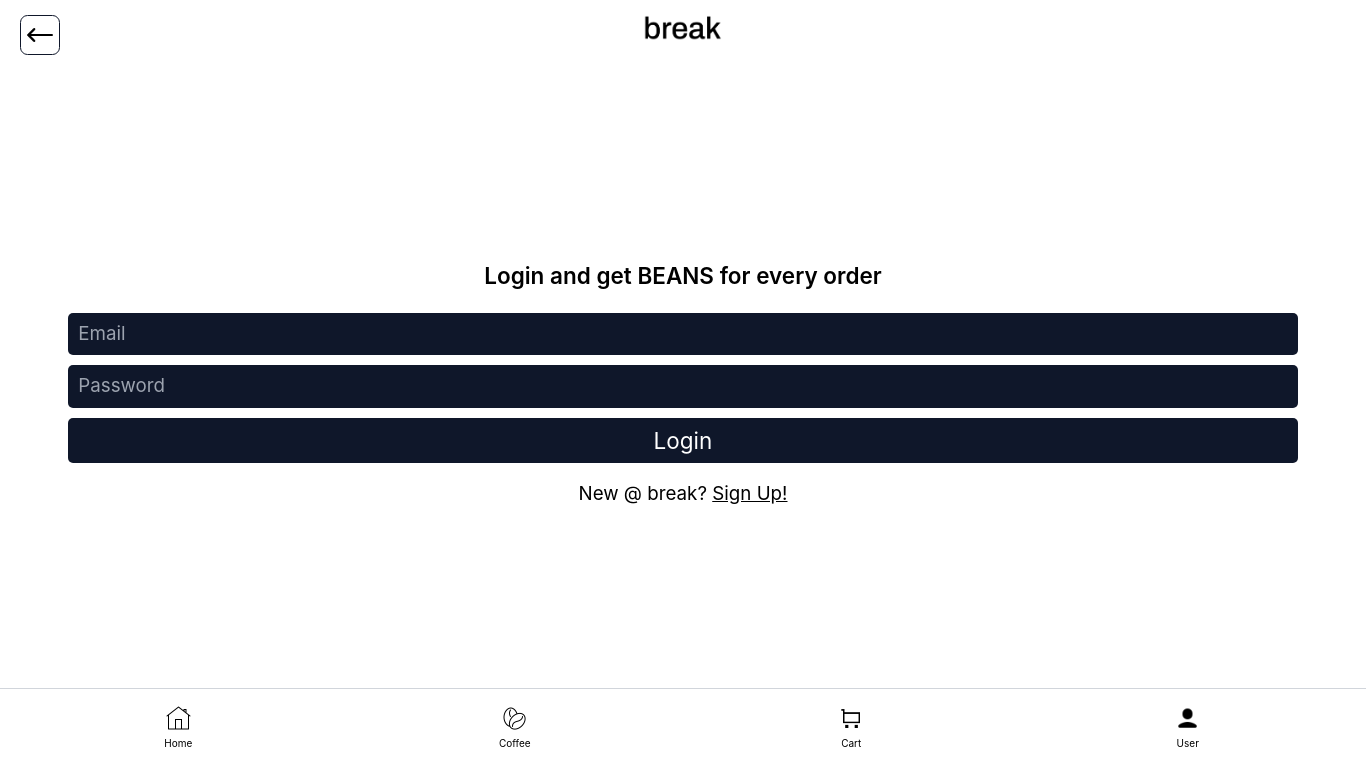
Test case: testing user login › user can not log in with mock data
Type "mock@user.com" into the field with placeholder "Email" at (683, 334), box [68, 313, 1298, 355]
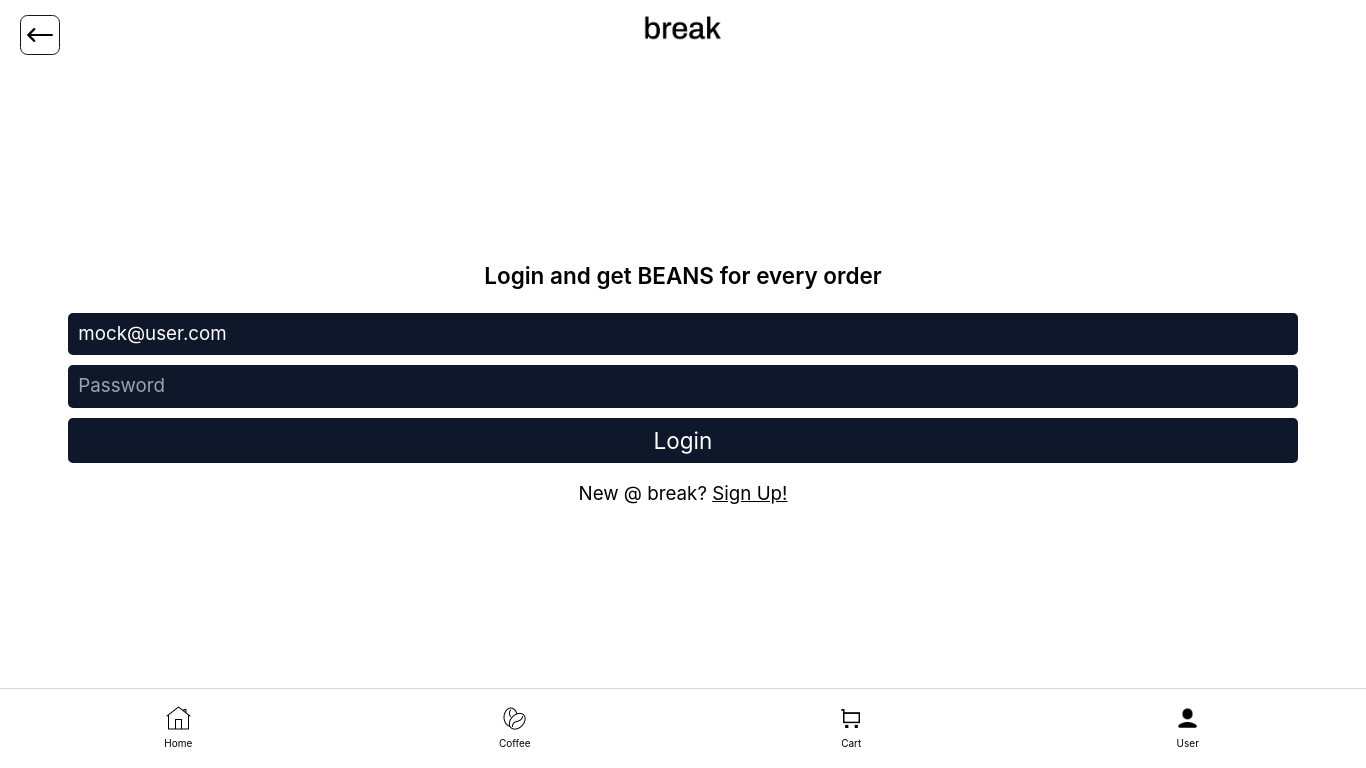
Type "123" into the password field with placeholder "Password" at (683, 387), box [68, 365, 1298, 408]
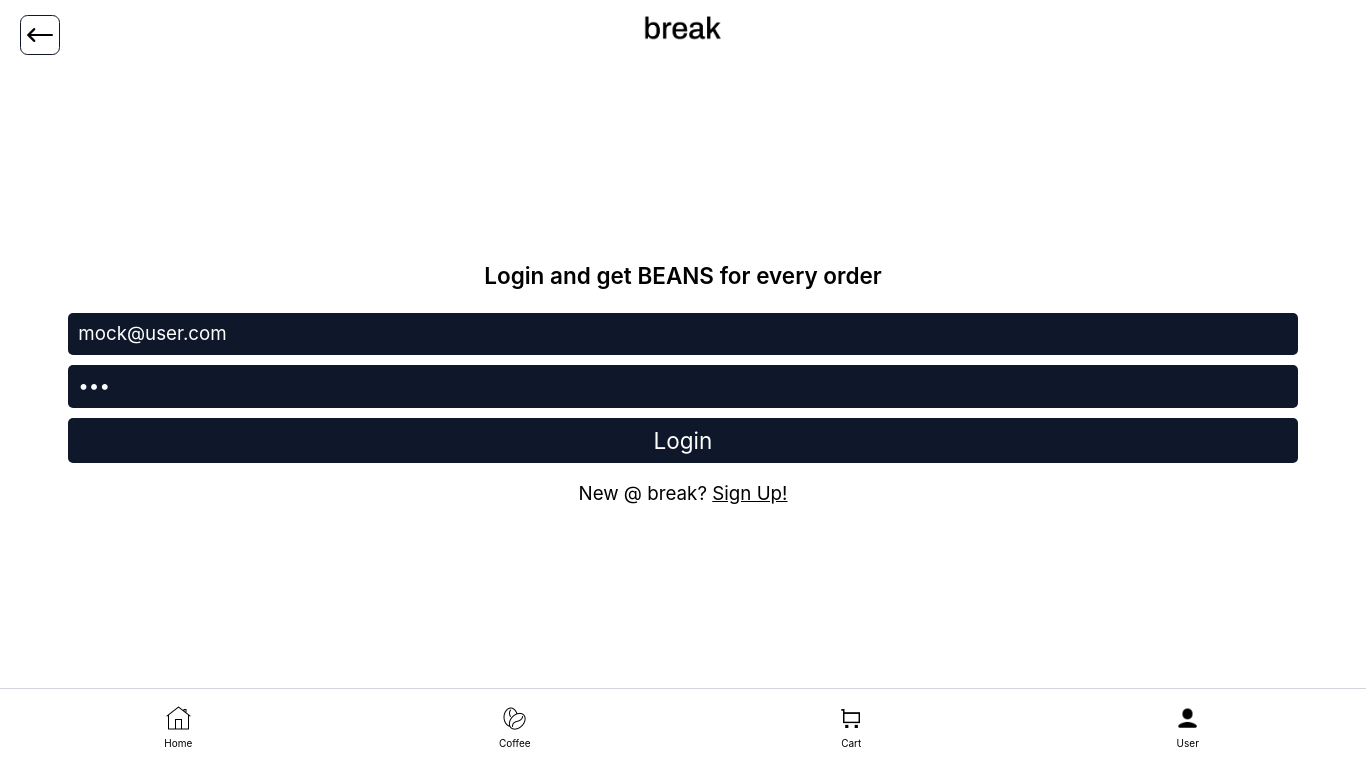
Click the button "Login" at (683, 440), box [68, 418, 1298, 463]
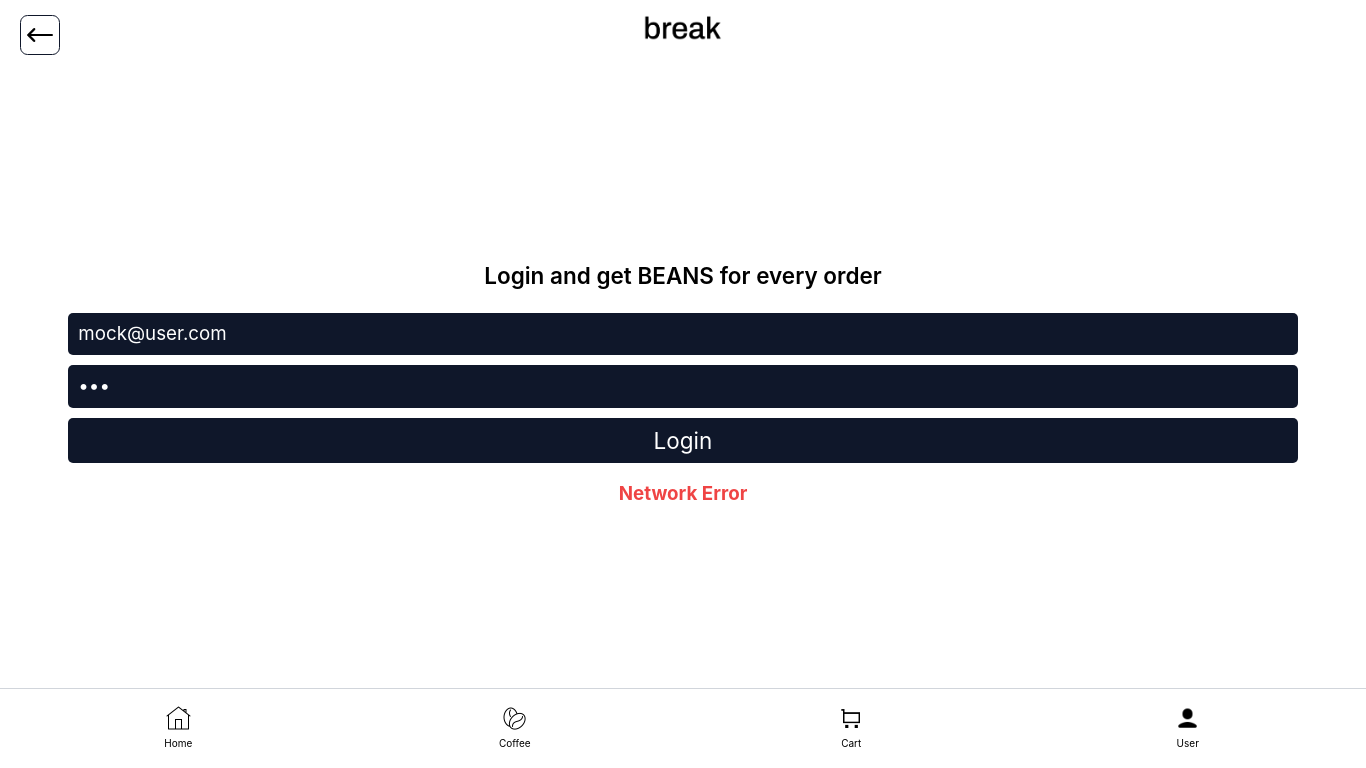
expect the text "Network Error" is shown: met, box [619, 482, 747, 505]
